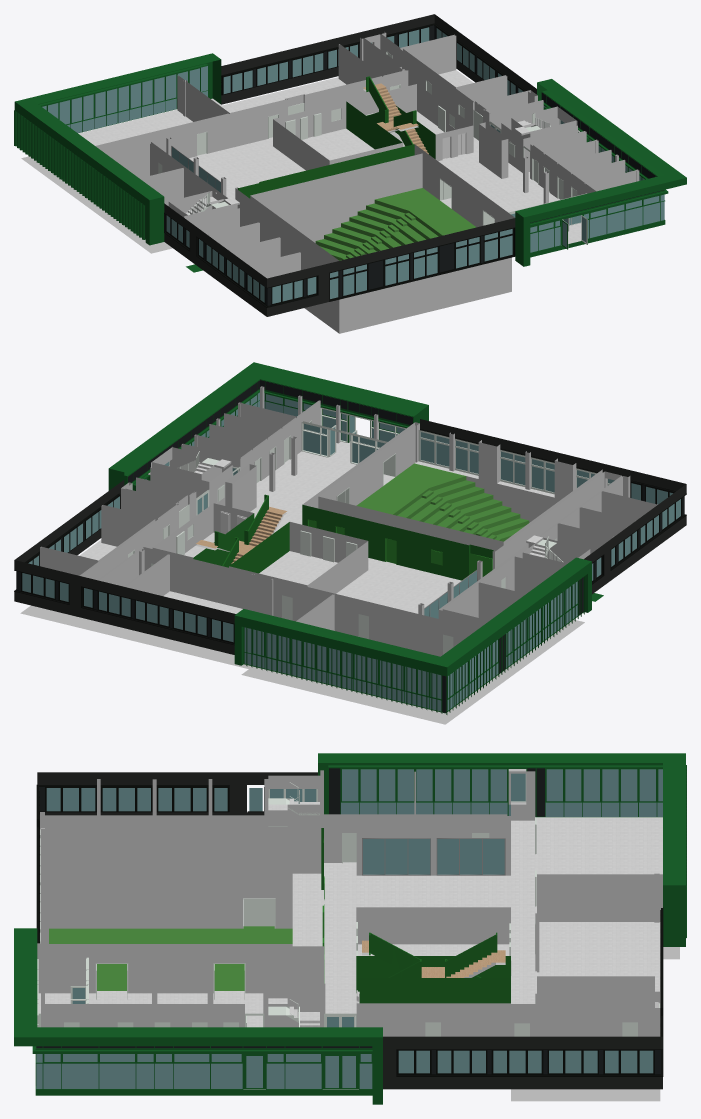
The picture shows the model from 3 angles, top to bottom: view 1: azimuth 30°, elevation 25°; view 2: azimuth 150°, elevation 25°; view 3: azimuth 270°, elevation 25°; orthographic projection. The views are drawn at different scales.
Visible parts, largest first — view 1: LEVEL0_WALL_00, LEVEL0_FACADE_86, LEVEL0_GLASS_01, LEVEL0_FLOOR_CEILING_01, LEVEL0_FLOOR_CEILING_00, LEVEL0_STAIRS_00, LEVEL0_FLOOR_CEILING_02; view 2: LEVEL0_WALL_00, LEVEL0_FACADE_86, LEVEL0_GLASS_01, LEVEL0_FLOOR_CEILING_01, LEVEL0_FLOOR_CEILING_00, LEVEL0_FLOOR_CEILING_02, LEVEL0_STAIRS_00, LEVEL0_DOOR_01, LEVEL0_DOOR_04; view 3: LEVEL0_WALL_00, LEVEL0_FACADE_86, LEVEL0_GLASS_01, LEVEL0_FLOOR_CEILING_01, LEVEL0_FLOOR_CEILING_00, LEVEL0_STAIRS_00, LEVEL0_FLOOR_CEILING_02, LEVEL0_DOOR_42, LEVEL0_WALL_01, LEVEL0_FRAME_00, LEVEL0_STAIRS_01.
Part boxes in pixels (x1,y1,x2,y2): LEVEL0_WALL_00: (95,31,639,333); LEVEL0_FACADE_86: (14,14,686,316); LEVEL0_GLASS_01: (42,27,664,303); LEVEL0_FLOOR_CEILING_01: (78,70,581,243); LEVEL0_FLOOR_CEILING_00: (315,188,476,260); LEVEL0_STAIRS_00: (363,76,428,154); LEVEL0_FLOOR_CEILING_02: (21,131,404,272); LEVEL0_WALL_00: (40,386,657,656); LEVEL0_FACADE_86: (14,362,686,713); LEVEL0_GLASS_01: (22,392,680,711); LEVEL0_FLOOR_CEILING_01: (79,441,554,613); LEVEL0_FLOOR_CEILING_00: (356,463,529,541); LEVEL0_FLOOR_CEILING_02: (20,593,603,724); LEVEL0_STAIRS_00: (196,494,286,567); LEVEL0_DOOR_01: (301,421,387,464); LEVEL0_DOOR_04: (179,504,492,576); LEVEL0_WALL_00: (37,769,662,1036); LEVEL0_FACADE_86: (14,753,685,1104); LEVEL0_GLASS_01: (36,769,662,1088); LEVEL0_FLOOR_CEILING_01: (38,817,662,1089); LEVEL0_FLOOR_CEILING_00: (49,926,292,990); LEVEL0_STAIRS_00: (362,932,505,977); LEVEL0_FLOOR_CEILING_02: (511,947,679,1101); LEVEL0_DOOR_42: (243,898,275,928); LEVEL0_WALL_01: (268,775,320,804); LEVEL0_FRAME_00: (362,838,505,875); LEVEL0_STAIRS_01: (268,1006,319,1027).
Bounding box in the file's own units: 43.4 × 8.75 × 43.41.
